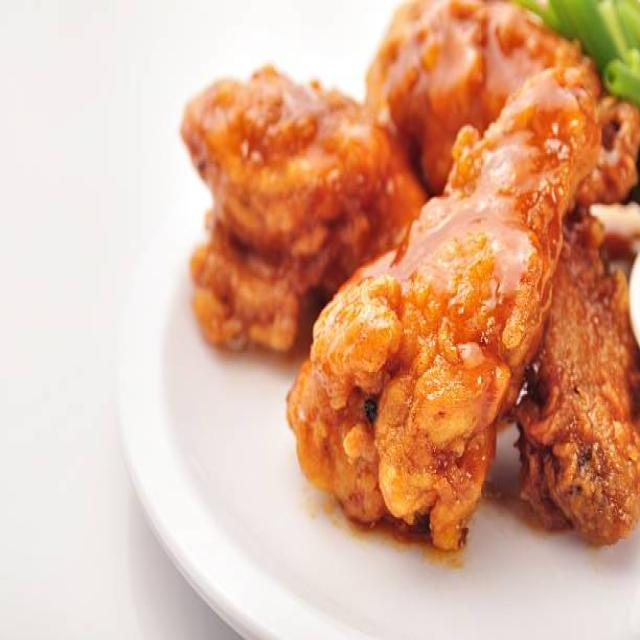Frango: (176, 0, 640, 558)
